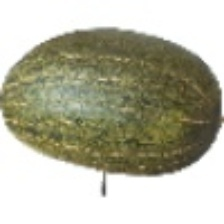honeydew: (48, 0, 209, 195)
